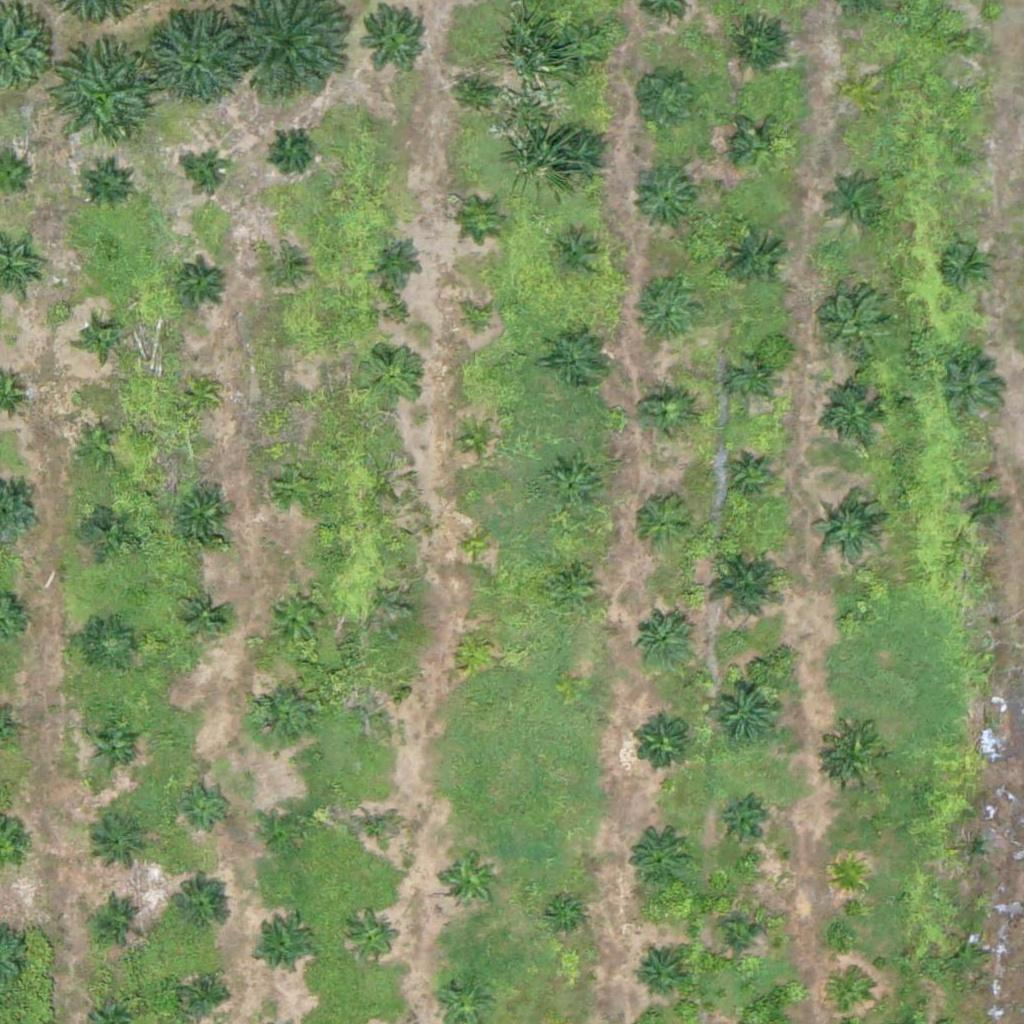Kelapa_Sawit: (43, 46, 155, 159), (144, 7, 244, 108), (703, 542, 790, 630), (811, 493, 886, 569), (625, 63, 700, 139), (706, 673, 781, 748), (629, 491, 692, 554), (634, 284, 697, 347), (632, 608, 695, 671), (940, 357, 1003, 420), (823, 725, 886, 788), (90, 811, 153, 874), (248, 682, 311, 745), (547, 327, 610, 390), (438, 850, 501, 913), (543, 457, 606, 520), (548, 127, 611, 190), (727, 11, 790, 74), (169, 880, 232, 943), (253, 918, 315, 981), (633, 168, 695, 231), (626, 828, 688, 891), (630, 711, 692, 774), (723, 228, 785, 291), (823, 385, 885, 448), (825, 295, 888, 357), (831, 173, 893, 236), (172, 484, 234, 547), (266, 585, 328, 648), (362, 345, 424, 408), (347, 911, 397, 962), (632, 949, 682, 1000), (84, 619, 134, 670), (552, 231, 602, 282), (82, 501, 132, 552), (961, 483, 1011, 534), (559, 25, 609, 76), (177, 590, 227, 641), (351, 805, 401, 856), (263, 803, 313, 854), (181, 780, 231, 831), (89, 722, 139, 773), (641, 390, 691, 440), (713, 799, 763, 849), (733, 120, 783, 170), (940, 241, 990, 291), (82, 159, 132, 209), (176, 257, 226, 307), (546, 558, 596, 608), (714, 913, 764, 963), (372, 236, 422, 286), (272, 461, 322, 511), (75, 421, 125, 471), (179, 969, 229, 1019), (92, 894, 142, 944), (722, 451, 771, 502), (466, 201, 504, 239), (273, 129, 311, 167), (829, 856, 867, 894), (831, 978, 869, 1016), (947, 936, 985, 974), (459, 302, 497, 340), (457, 421, 495, 459), (459, 528, 497, 566), (455, 628, 493, 666), (181, 375, 219, 413), (84, 320, 122, 358), (546, 899, 584, 937), (190, 155, 227, 193), (732, 360, 769, 398), (956, 830, 993, 868), (267, 253, 304, 291), (279, 382, 316, 420), (362, 680, 399, 718), (461, 73, 498, 110), (954, 143, 979, 168), (954, 27, 979, 52), (849, 81, 874, 106), (839, 608, 864, 633)
